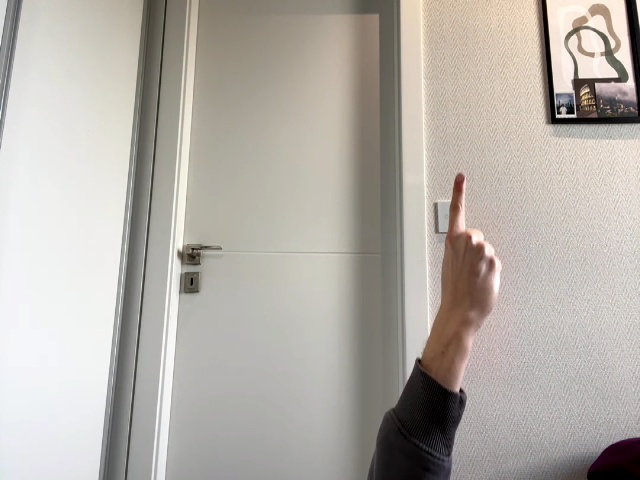D: (441, 171, 502, 334)
